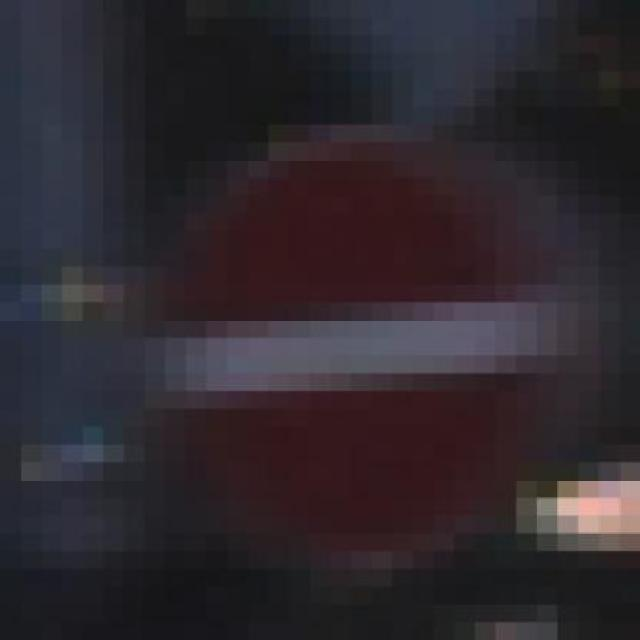No Entry: (124, 107, 619, 587)
